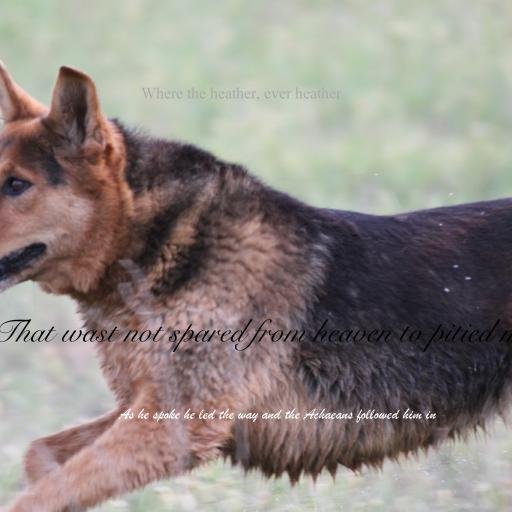Brush Script MT: (118, 408, 436, 423)
Snell Roundhand: (0, 319, 512, 352)
Times New Roman: (141, 87, 341, 102)
